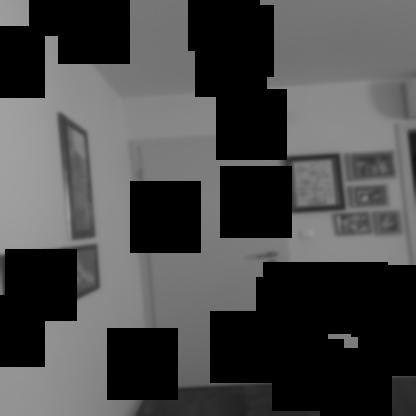Porte: (126, 129, 307, 392)
